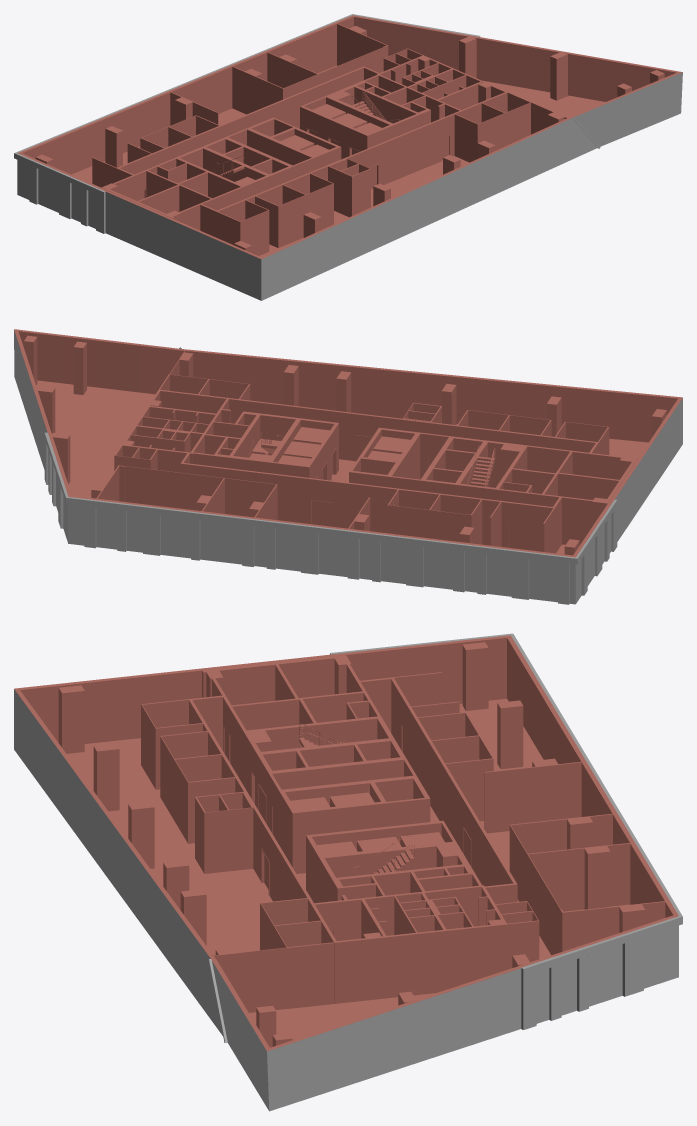
Rendered from JLL_Ruya_Region3DModels_Riyadh_Derived_HeroBuildings_Building 305_Floors_KSA_04_04105_B29_Floor_T1_5.fbx.
3 renders of one model, top to bottom at view 1: azimuth 30°, elevation 25°; view 2: azimuth 150°, elevation 25°; view 3: azimuth 270°, elevation 25°, orthographic. The views are drawn at different scales.
Visible parts, largest first — view 1: KSA_04_04105_B29_Floor_T1_5; view 2: KSA_04_04105_B29_Floor_T1_5; view 3: KSA_04_04105_B29_Floor_T1_5.
Boxes of the visible parts, x1=… form: KSA_04_04105_B29_Floor_T1_5: x1=14, y1=14, x2=682, y2=300; KSA_04_04105_B29_Floor_T1_5: x1=14, y1=329, x2=682, y2=604; KSA_04_04105_B29_Floor_T1_5: x1=14, y1=633, x2=682, y2=1111.
Size of what is drawn, in the model's own units: 5981 by 509 by 4048.
